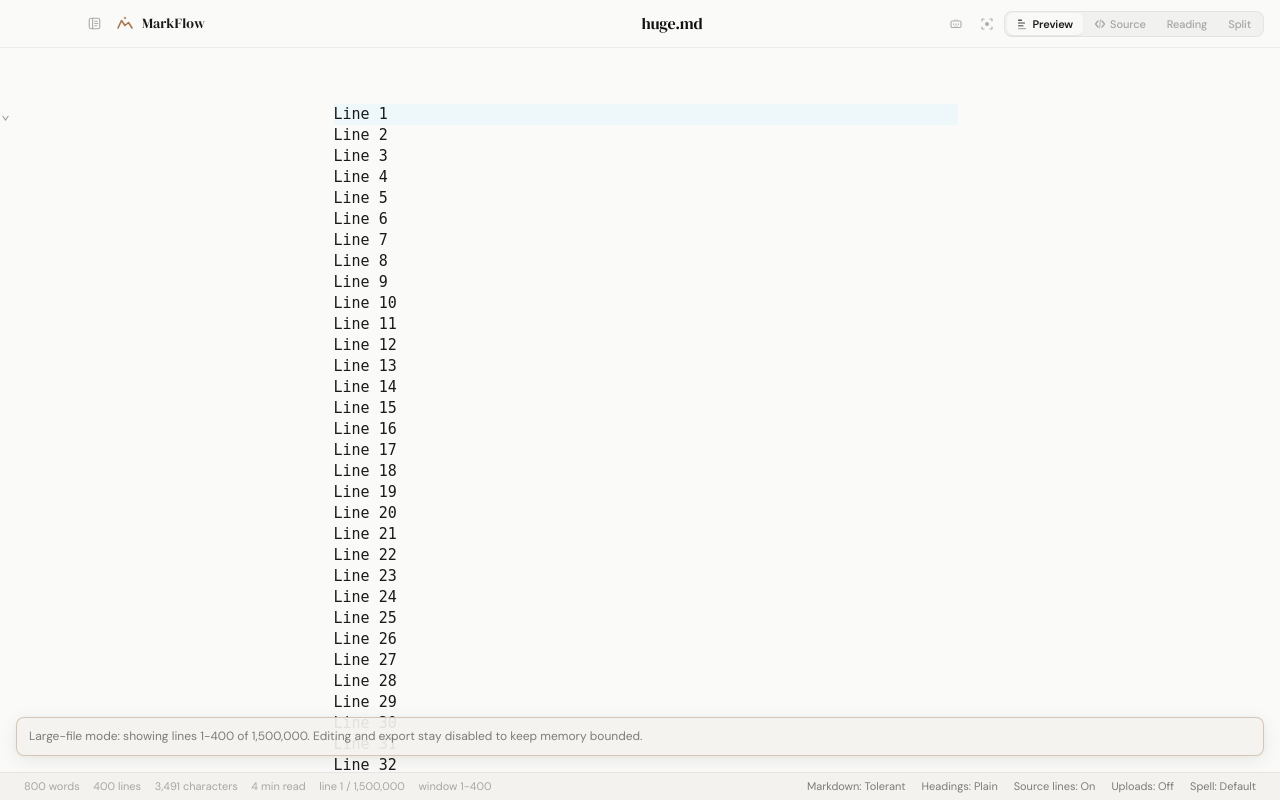
App desktop integration › routes go-to-line through the large-file window bridge and keeps the editor read-only
The width and height of the screenshot is (1280, 800).
Expected: the text "Large-file mode: showing lines 1-400 of 1,500,000." is shown, x1=29 y1=728 x2=642 y2=744
Press l
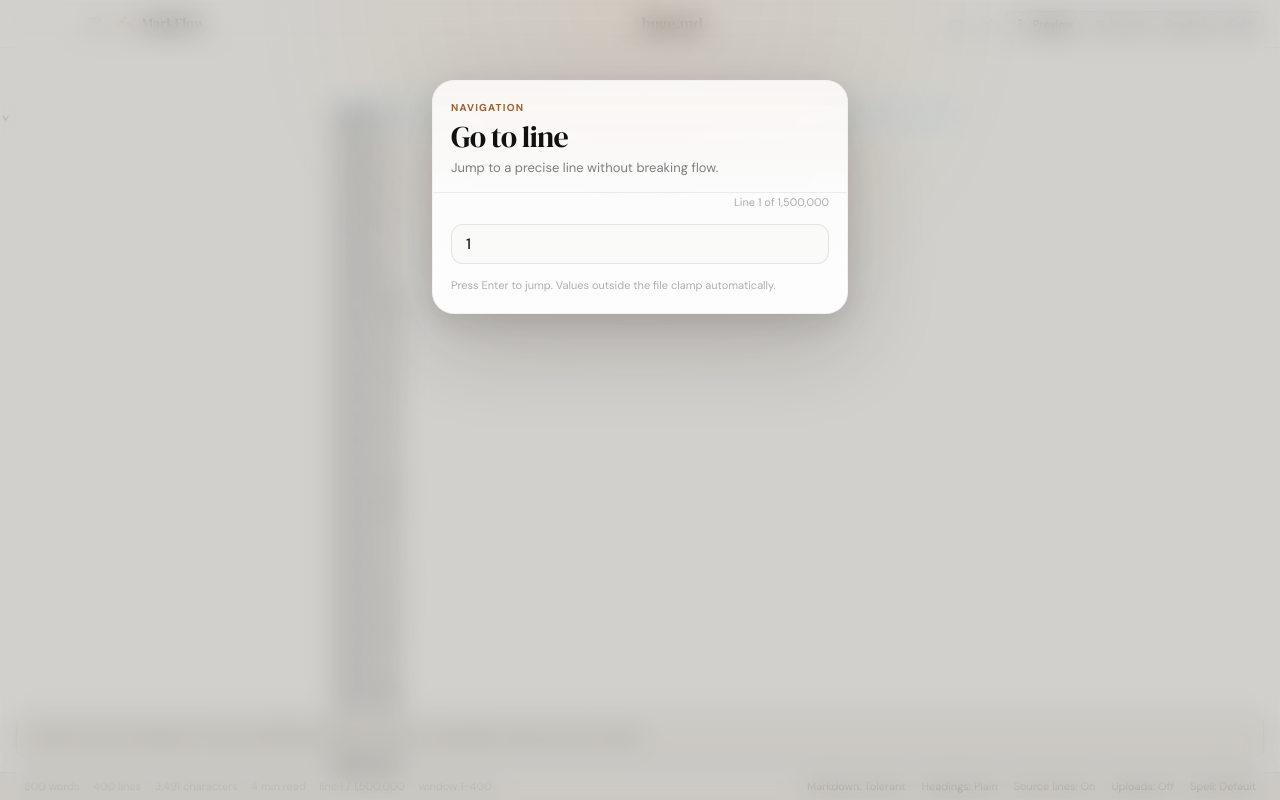
Expected: the text "Line 1 of 1,500,000" is shown, x1=734 y1=195 x2=829 y2=209
Replace the text in the field named "Line number" with "1000000" at (640, 244), box x1=451 y1=224 x2=829 y2=264
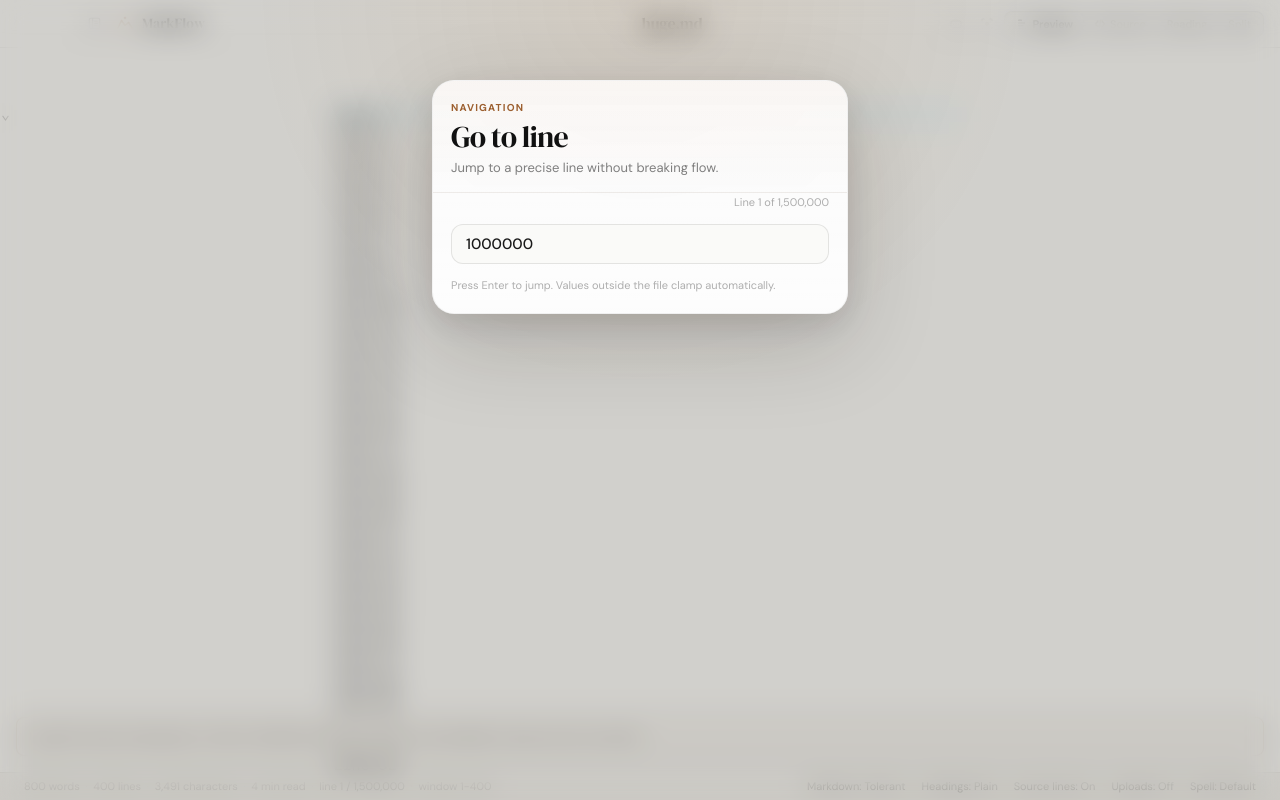
Submit the form named "Line number", box x1=451 y1=193 x2=829 y2=294
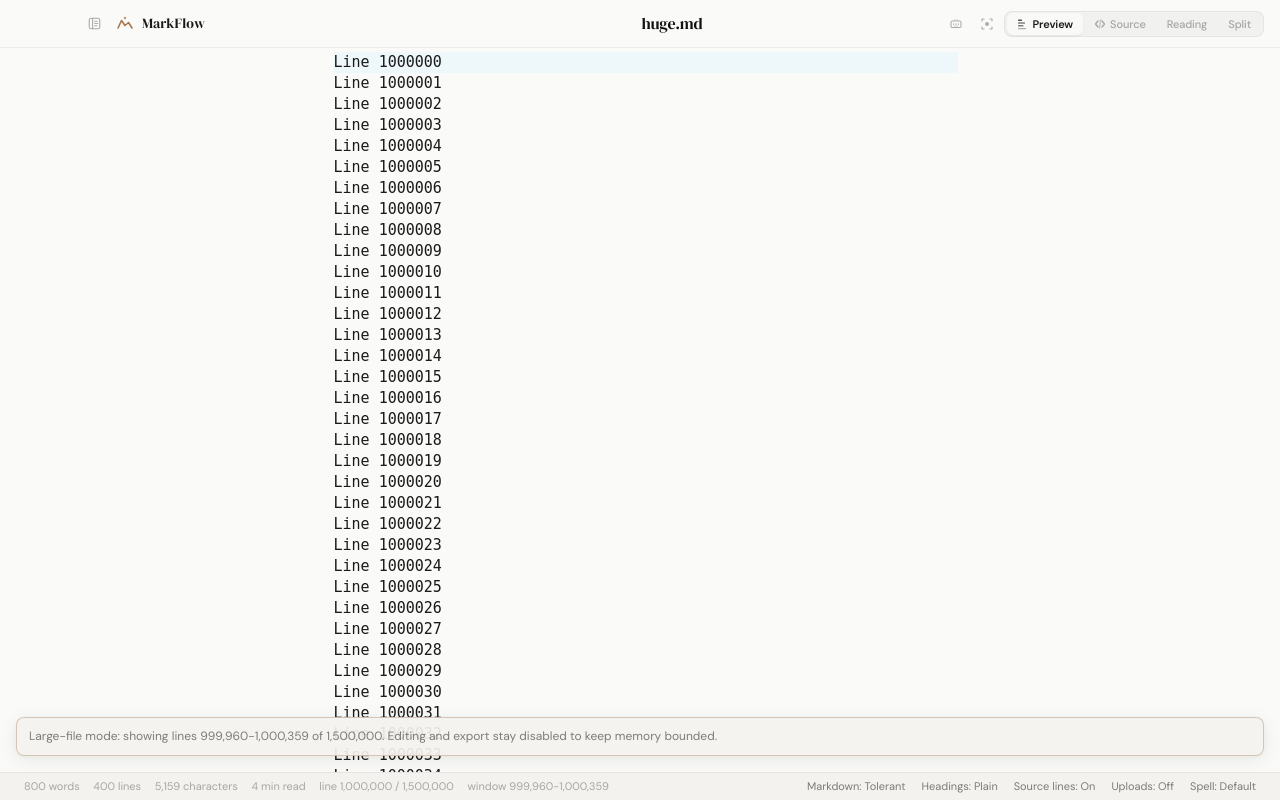
Expected: the text "showing lines 999,960-1,000,359 of 1,500,000" is shown, x1=29 y1=728 x2=717 y2=744
Expected: the text "line 1,000,000 / 1,500,000" is shown, x1=319 y1=777 x2=454 y2=796
